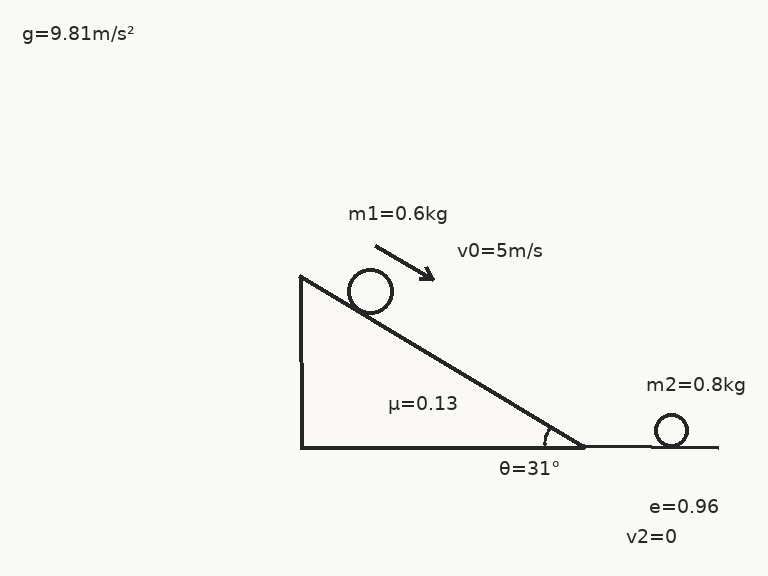ball: (345, 266, 395, 316), (652, 411, 690, 449)
ramp: (297, 274, 586, 449)
